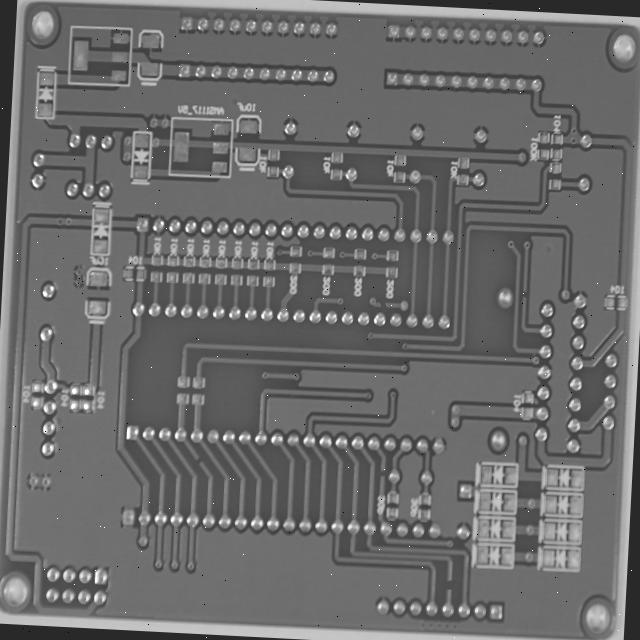open_circuit: (492, 565, 506, 585), (215, 422, 228, 436), (419, 236, 433, 249), (578, 221, 590, 236), (420, 435, 431, 451)
